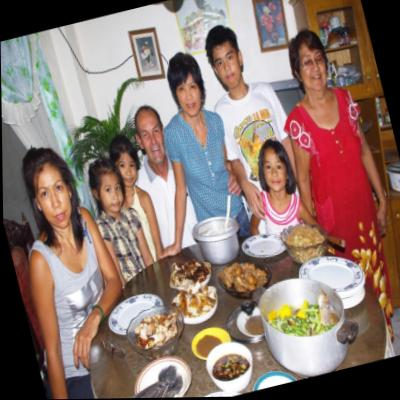happy: (134, 113, 170, 167), (296, 43, 329, 93), (256, 145, 289, 193), (114, 147, 139, 188)
netural: (27, 159, 75, 232), (208, 38, 244, 91), (173, 74, 204, 119), (97, 168, 127, 214)
